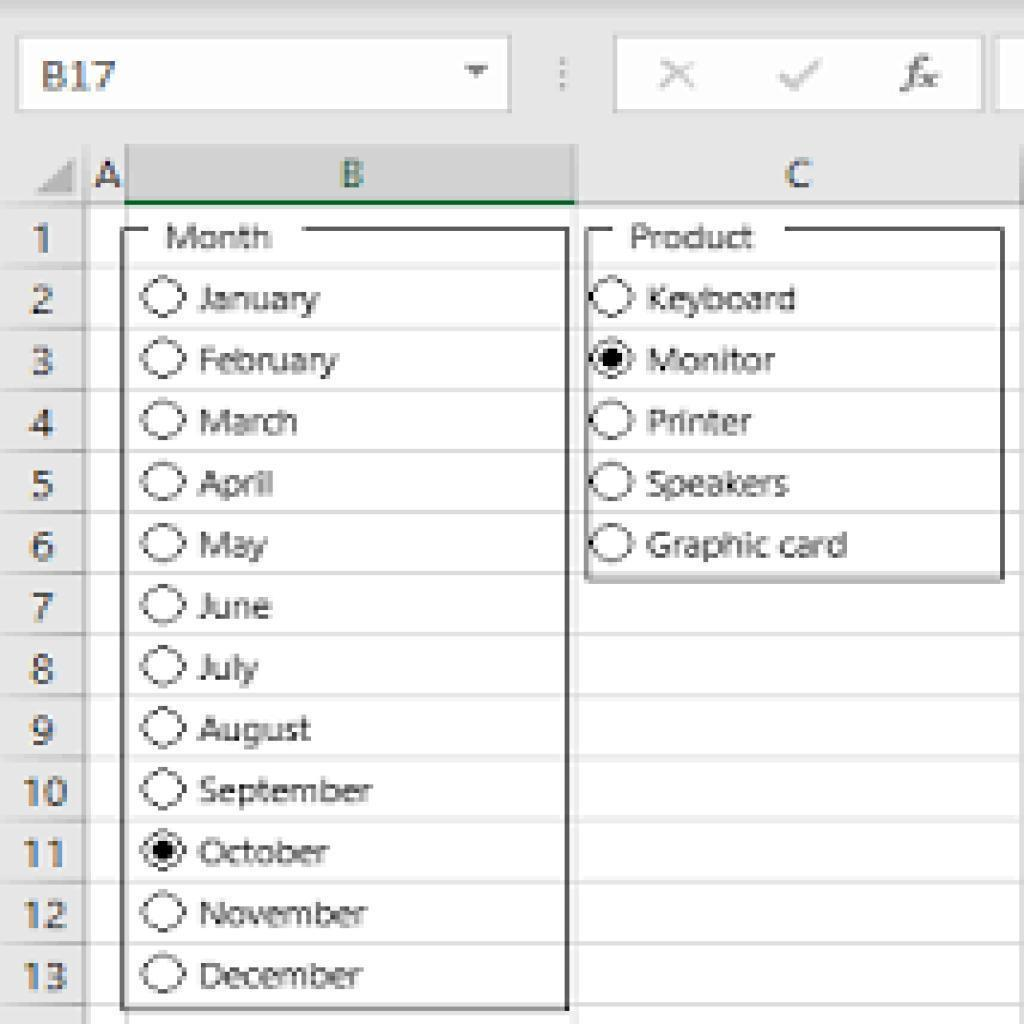dropdown: (21, 43, 506, 111)
label: (200, 955, 371, 997), (198, 768, 373, 808), (202, 892, 367, 933), (644, 459, 792, 503), (195, 336, 339, 377), (199, 829, 330, 874), (644, 278, 796, 316), (641, 343, 775, 378), (644, 399, 754, 441), (198, 709, 314, 748), (198, 279, 325, 314), (196, 403, 300, 438), (198, 525, 272, 563), (195, 589, 276, 623), (201, 466, 278, 499), (196, 649, 261, 688)
radio: (128, 765, 194, 818), (138, 946, 194, 1005), (133, 272, 197, 322), (133, 581, 199, 629), (581, 266, 636, 322), (583, 329, 641, 382), (137, 888, 197, 938), (135, 333, 193, 384), (131, 399, 192, 447), (135, 697, 190, 750), (140, 634, 183, 698), (587, 516, 638, 567), (583, 396, 636, 443), (587, 458, 636, 507), (137, 520, 190, 565), (139, 460, 188, 507), (140, 823, 187, 872)
